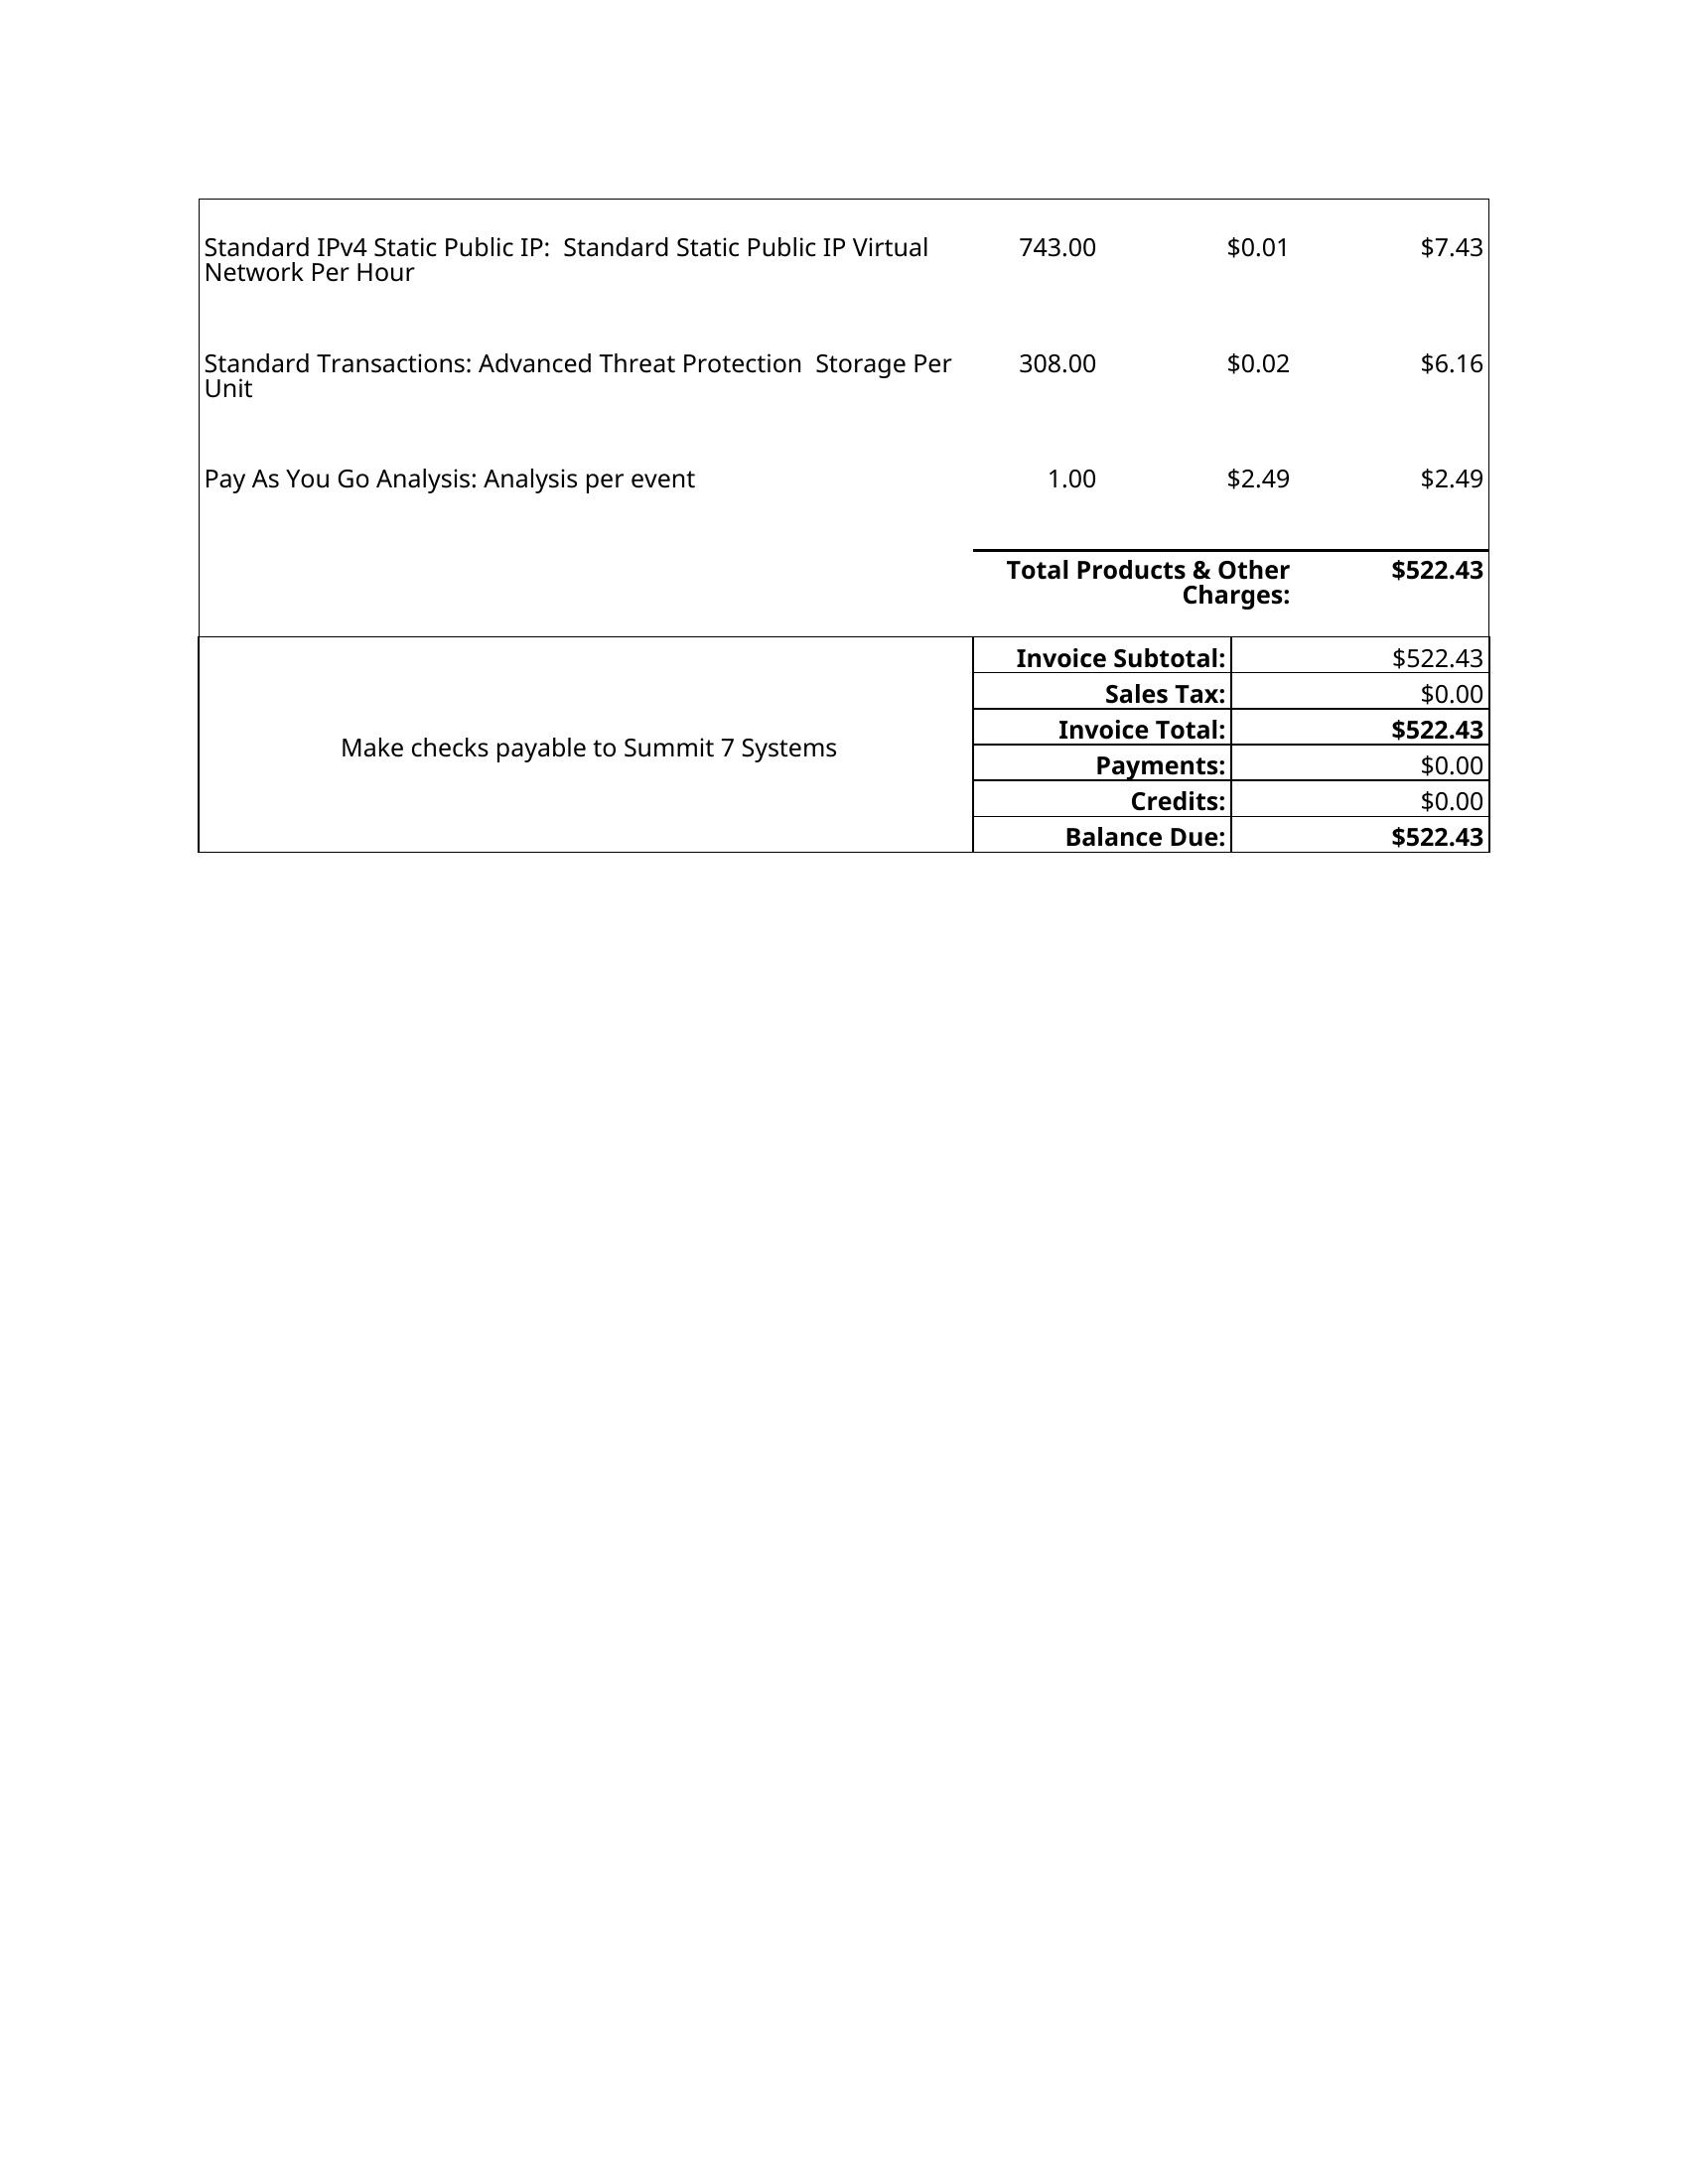0 table: (190, 193, 1493, 542)
